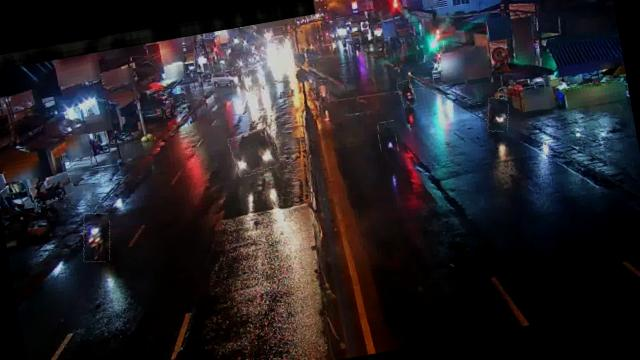Bike: (78, 210, 115, 264), (29, 172, 76, 205), (484, 96, 512, 132), (376, 120, 399, 155), (398, 79, 417, 108), (313, 79, 330, 104)
Car: (228, 126, 280, 176)
